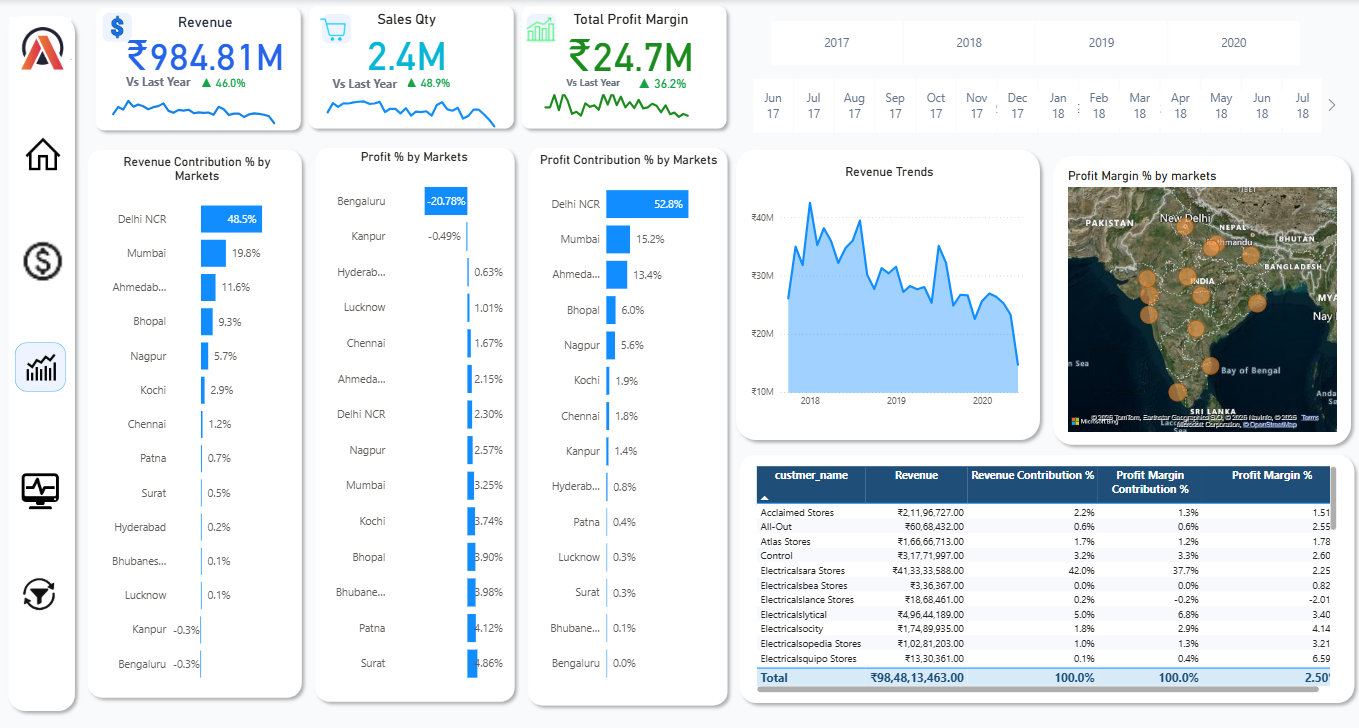

The page's visual inventory and layout, read from the dashboard file:
{"tool":"powerbi","page":{"name":"Profit Analysis","canvas":[1864,999],"ordinal":2},"visuals":[{"type":"shape","box":[2.5,12.7,109.4,969.7],"z":0},{"type":"shape","box":[122.6,2.6,298.8,186.4],"z":1000},{"type":"shape","box":[1430.3,204.3,426.5,413.8],"z":2000},{"type":"shape","box":[1002.9,613.2,860,358.5],"z":3000},{"type":"shape","box":[109.8,196.7,311.6,768.8],"z":4000},{"type":"shape","box":[421.4,194.1,291.2,776.4],"z":5000},{"type":"shape","box":[712.6,194.1,291.2,781.5],"z":6000},{"type":"shape","box":[998.6,196.7,434.2,416.3],"z":7000},{"type":"barChart","title":"Profit Contribution % by Markets","fields":{"Category":["sales markets.markets_name"],"Y":["Base Measures.Revenue Contribution %"]},"box":[733,209.4,252.9,743.2],"z":8000},{"type":"barChart","title":"Revenue Contribution % by Markets","fields":{"Category":["sales markets.markets_name"],"Y":["Base Measures.Profit Margin Contribution %"]},"box":[135.4,212,268.2,740.7],"z":9000},{"type":"barChart","title":"Profit % by Markets","fields":{"Category":["sales markets.markets_name"],"Y":["Base Measures.Profit Margin %"]},"box":[439.3,204.3,252.9,748.3],"z":10000},{"type":"lineChart","title":"Revenue Trends","fields":{"Y":["Base Measures.Revenue"],"Category":["sales date.cy_date"]},"box":[1021.6,224.8,388.2,342.2],"z":11000},{"type":"shape","box":[413.8,0,298.8,186.4],"z":12000},{"type":"shape","box":[704.9,0,298.8,186.4],"z":13000},{"type":"lineChart","fields":{"Y":["Base Measures.Revenue"],"Category":["sales date.cy_date"]},"box":[140.5,117.5,250.3,63.9],"z":14000},{"type":"lineChart","fields":{"Y":["Base Measures.Sales Qty"],"Category":["sales date.cy_date"]},"box":[434.2,122.6,258,66.4],"z":15000},{"type":"card","title":"Revenue","fields":{"Values":["Base Measures.Revenue"]},"box":[158.4,20.4,245.2,84.3],"z":16000},{"type":"card","title":"Sales Qty","fields":{"Values":["Base Measures.Sales Qty"]},"box":[439.3,15.3,232.4,89.4],"z":17000},{"type":"card","title":"Total Profit Margin","fields":{"Values":["Base Measures.Total Profit Margin"]},"box":[740.7,15.3,245.2,91.9],"z":18000},{"type":"lineChart","fields":{"Category":["sales date.cy_date"],"Y":["Base Measures.Total Profit Margin"]},"box":[730.5,104.7,224.8,66.4],"z":19000},{"type":"image","box":[0,20.4,109.8,94.5],"z":20000},{"type":"image","box":[15.8,180.6,85.8,65.5],"z":21000},{"type":"image","box":[15.8,322.8,85.8,72.2],"z":22000},{"type":"image","box":[24.8,634.4,61,76.8],"z":23000},{"type":"slicer","fields":{"Values":["sales date.year"]},"box":[1292.4,117.5,508.3,66.4],"z":24000},{"type":"slicer","fields":{"Values":["sales date.cy_date"]},"box":[1005.5,101.9,828.5,88.5],"z":25000},{"type":"shape","box":[140.5,17.9,40.9,40.9],"z":26000},{"type":"image","box":[140.5,17.9,40.9,40.9],"z":27000},{"type":"shape","box":[439.3,20.4,40.9,40.9],"z":28000},{"type":"shape","box":[720.3,20.4,40.9,40.9],"z":29000},{"type":"image","box":[431.6,17.9,48.5,48.5],"z":30000},{"type":"card","fields":{"Values":["Base Measures.Revenue Growth Display"]},"box":[254.5,91.6,99.3,45.8],"z":31000},{"type":"card","fields":{"Values":["Base Measures.Sales Growth Display"]},"box":[533.8,94.5,104.7,43.4],"z":32000},{"type":"textbox","box":[160.9,97.1,112.4,33.2],"z":33000},{"type":"textbox","box":[439.3,99.6,117.5,38.3],"z":34000},{"type":"card","fields":{"Values":["Base Measures.Profit Margin Display"]},"box":[855.6,99.6,99.6,35.8],"z":35000},{"type":"textbox","box":[753.5,99.6,114.9,30.6],"z":36000},{"type":"image","box":[712.6,15.3,53.6,51.1],"z":37000},{"type":"tableEx","fields":{"Values":["sales customers.custmer_name","Base Measures.Revenue","Base Measures.Revenue Contribution %","Base Measures.Profit Margin Contribution %","Base Measures.Profit Margin %"]},"box":[1029.3,633.4,804.5,319.3],"z":38000},{"type":"slicer","fields":{"Values":["sales date.year"]},"box":[1029.6,21.4,772.2,75.1],"z":39000},{"type":"shape","box":[20.3,469.6,70,67.7],"z":40000},{"type":"image","box":[20.3,474.1,72.2,58.7],"z":41000},{"type":"map","title":"Profit Margin % by markets","fields":{"Category":["sales markets.markets_name"],"Size":["Base Measures.Profit Margin %"]},"box":[1455.8,232.4,378,365.2],"z":42000},{"type":"image","box":[13.5,776.6,81.3,79],"z":43000}]}

Visuals, with their boxes on the page's 1864x999 design canvas (x1, y1, x2, y2). These are canvas units, not pixel positions in the 1359x728 screenshot, which may show the page scaled, cropped or inside an application window:
shape: rect(2, 13, 112, 982)
shape: rect(123, 3, 421, 189)
shape: rect(1430, 204, 1857, 618)
shape: rect(1003, 613, 1863, 972)
shape: rect(110, 197, 421, 966)
shape: rect(421, 194, 713, 970)
shape: rect(713, 194, 1004, 976)
shape: rect(999, 197, 1433, 613)
"Profit Contribution % by Markets" barChart: rect(733, 209, 986, 953)
"Revenue Contribution % by Markets" barChart: rect(135, 212, 404, 953)
"Profit % by Markets" barChart: rect(439, 204, 692, 953)
"Revenue Trends" lineChart: rect(1022, 225, 1410, 567)
shape: rect(414, 0, 713, 186)
shape: rect(705, 0, 1004, 186)
lineChart - Base Measures.Revenue x sales date.cy_date: rect(140, 118, 391, 181)
lineChart - Base Measures.Sales Qty x sales date.cy_date: rect(434, 123, 692, 189)
"Revenue" card: rect(158, 20, 404, 105)
"Sales Qty" card: rect(439, 15, 672, 105)
"Total Profit Margin" card: rect(741, 15, 986, 107)
lineChart - sales date.cy_date x Base Measures.Total Profit Margin: rect(730, 105, 955, 171)
image: rect(0, 20, 110, 115)
image: rect(16, 181, 102, 246)
image: rect(16, 323, 102, 395)
image: rect(25, 634, 86, 711)
slicer - sales date.year: rect(1292, 118, 1801, 184)
slicer - sales date.cy_date: rect(1006, 102, 1834, 190)
shape: rect(140, 18, 181, 59)
image: rect(140, 18, 181, 59)
shape: rect(439, 20, 480, 61)
shape: rect(720, 20, 761, 61)
image: rect(432, 18, 480, 66)
card - Base Measures.Revenue Growth Display: rect(254, 92, 354, 137)
card - Base Measures.Sales Growth Display: rect(534, 94, 638, 138)
textbox: rect(161, 97, 273, 130)
textbox: rect(439, 100, 557, 138)
card - Base Measures.Profit Margin Display: rect(856, 100, 955, 135)
textbox: rect(754, 100, 868, 130)
image: rect(713, 15, 766, 66)
tableEx - sales customers.custmer_name x Base Measures.Revenue: rect(1029, 633, 1834, 953)
slicer - sales date.year: rect(1030, 21, 1802, 96)
shape: rect(20, 470, 90, 537)
image: rect(20, 474, 92, 533)
"Profit Margin % by markets" map: rect(1456, 232, 1834, 598)
image: rect(14, 777, 95, 856)
